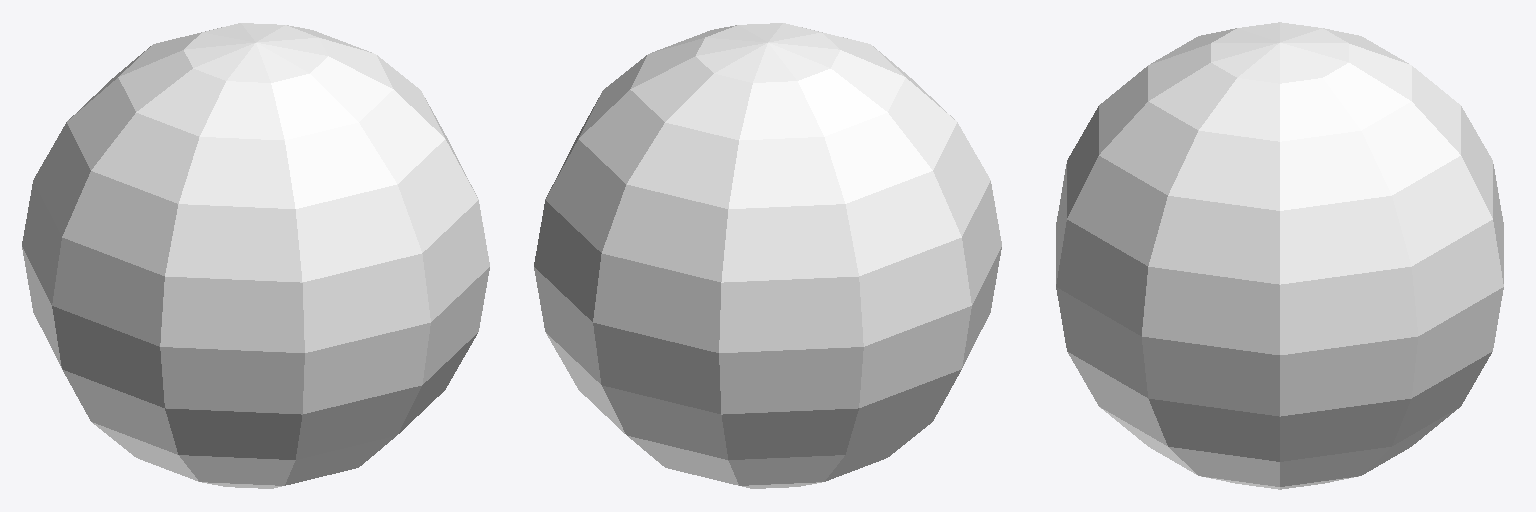
File: ball.obj
The picture shows the model from 3 angles: view 1: azimuth 30°, elevation 25°; view 2: azimuth 150°, elevation 25°; view 3: azimuth 270°, elevation 25°; orthographic projection.
Visible parts, largest first — view 1: Sphere; view 2: Sphere; view 3: Sphere.
Boxes of the visible parts, box(x1,y1,x2,y2) form: Sphere: box(22, 23, 489, 488); Sphere: box(534, 23, 1001, 488); Sphere: box(1056, 22, 1503, 489).
Size of the model in its own units: 2 by 2 by 1.9.